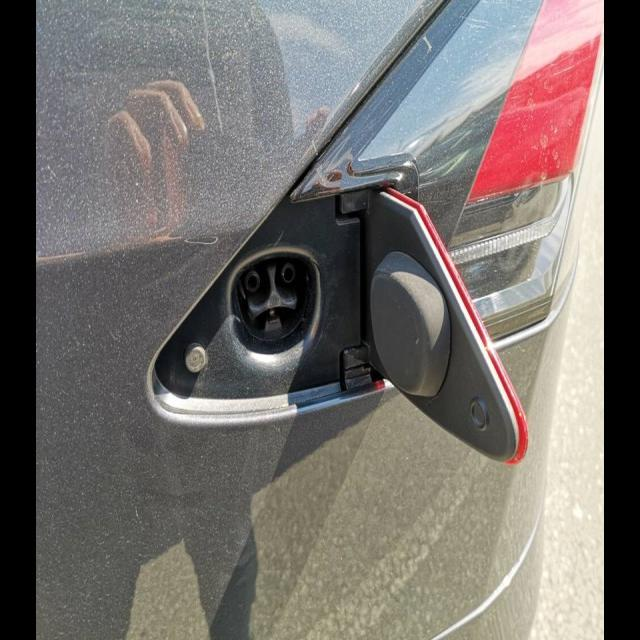Tesla Model-S-: (218, 234, 336, 376)
